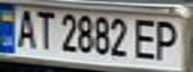2: (109, 15, 133, 60), (54, 10, 78, 53)
8: (90, 14, 112, 56), (75, 12, 93, 55)
A: (12, 7, 39, 50)
E: (130, 16, 163, 61)
P: (151, 17, 187, 62)
T: (30, 8, 57, 51)
